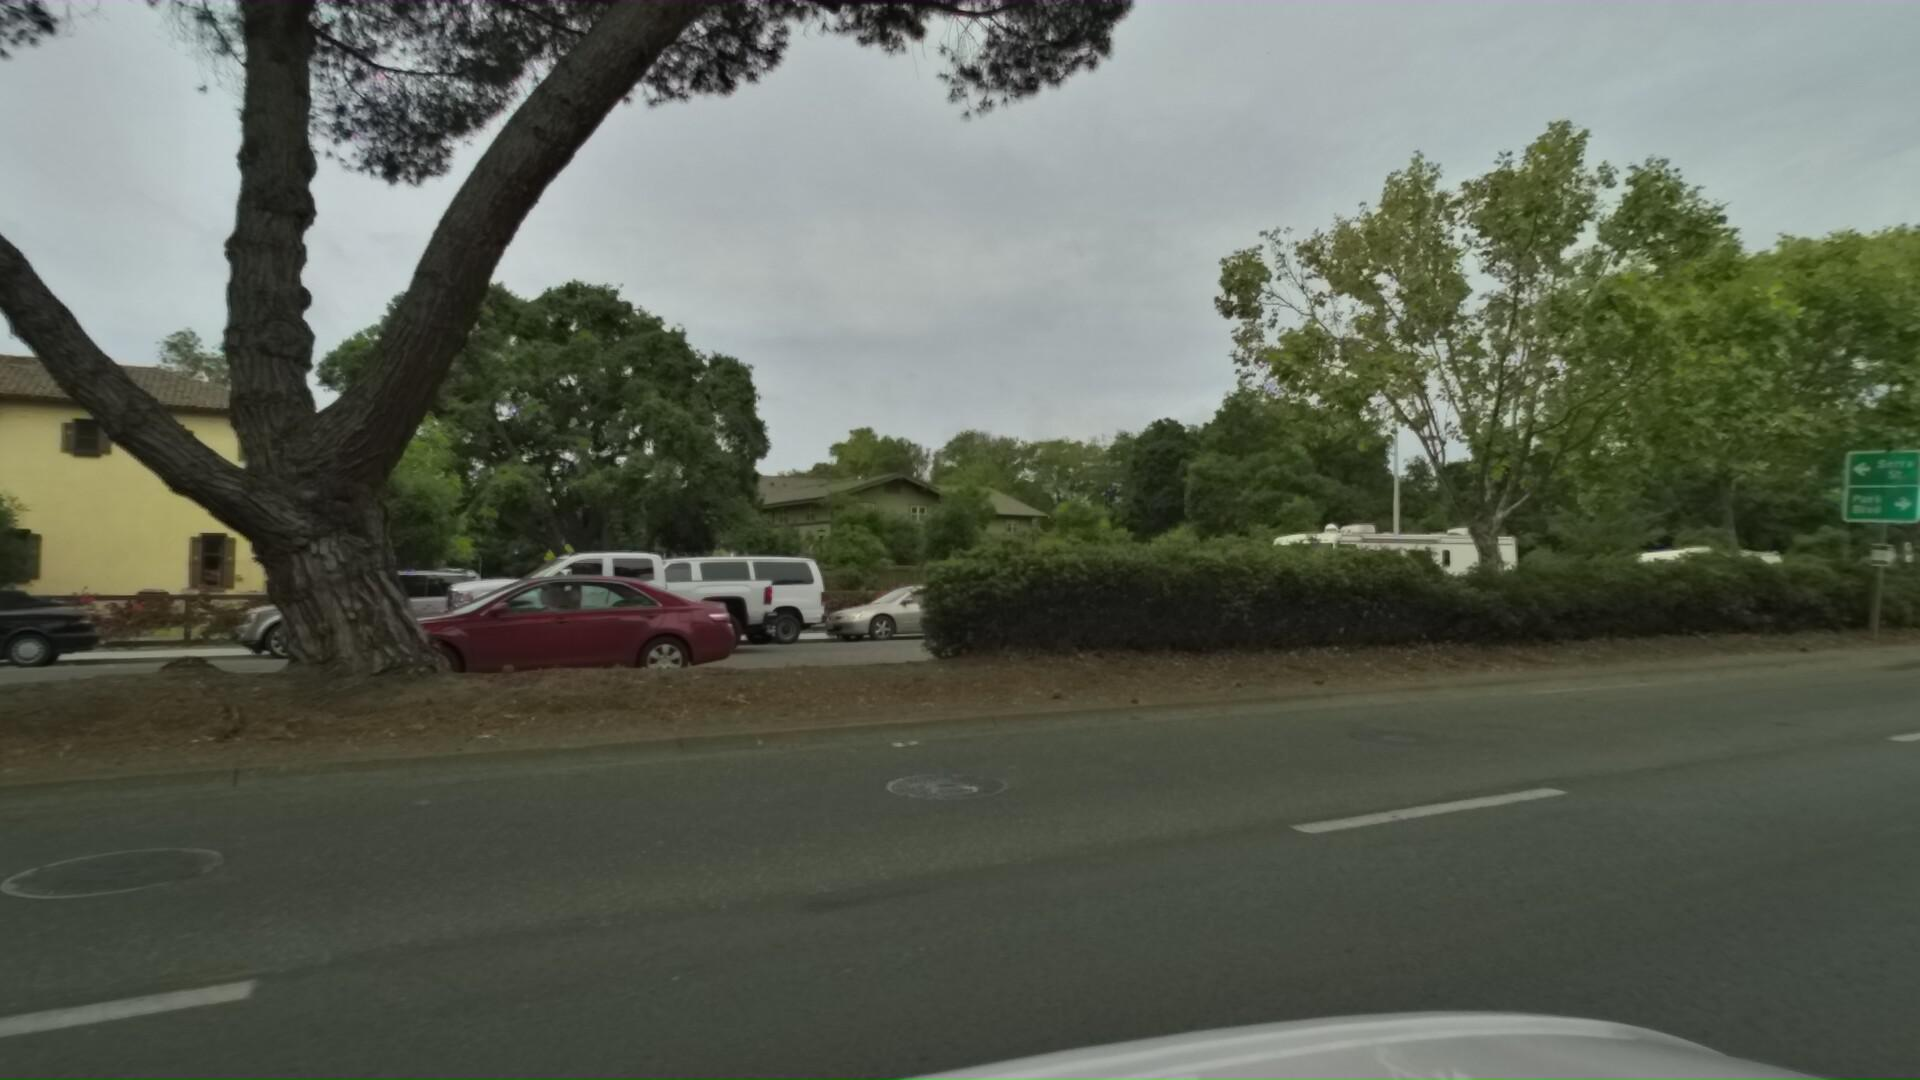car: (219, 566, 647, 719), (359, 543, 729, 669), (171, 564, 477, 670), (543, 549, 815, 658), (786, 585, 982, 647)
other_vehicle: (1222, 506, 1516, 636), (1604, 538, 1782, 617)
